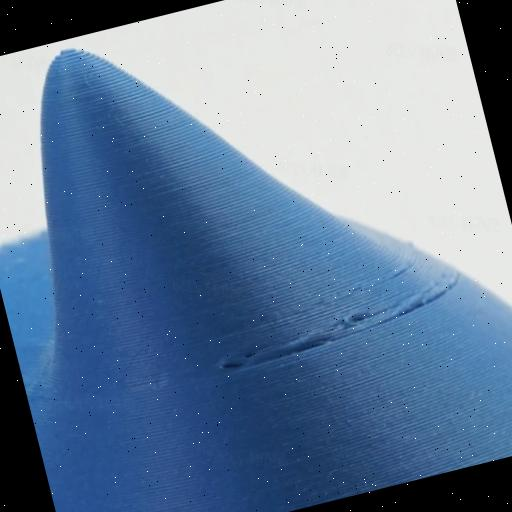cracks: (202, 260, 467, 396)
